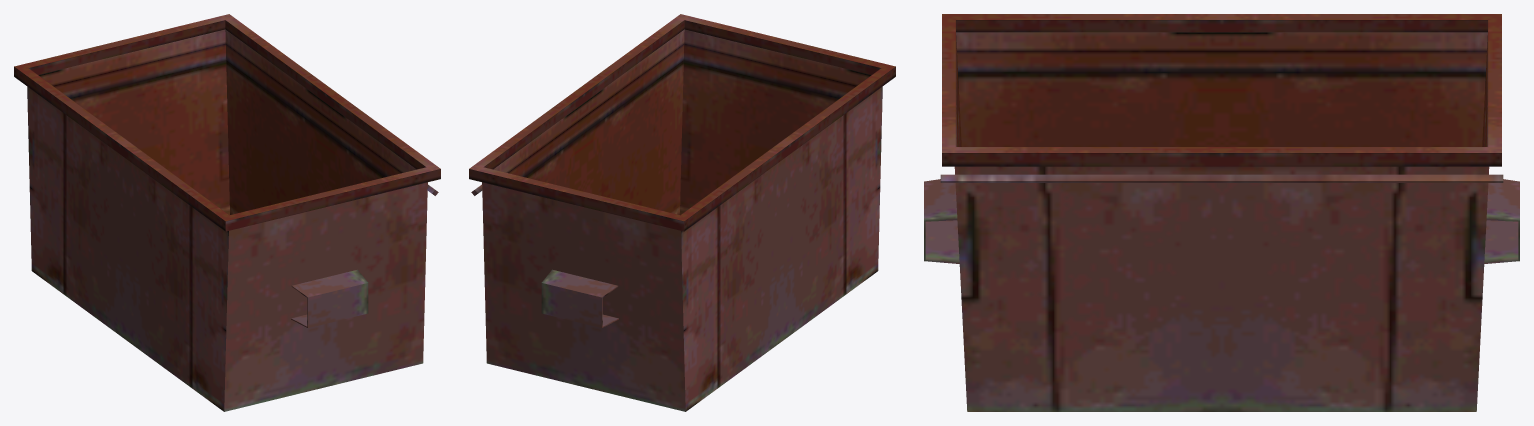
File: Urban_DumpsterEmptyNoLidRed_Model.fbx
3 renders of one model, left to right at view 1: azimuth 30°, elevation 25°; view 2: azimuth 150°, elevation 25°; view 3: azimuth 270°, elevation 25°, orthographic. The views are drawn at different scales.
Visible parts, largest first — view 1: Urban_DumpsterEmptyNoLidRed_Mesh; view 2: Urban_DumpsterEmptyNoLidRed_Mesh; view 3: Urban_DumpsterEmptyNoLidRed_Mesh.
Boxes of the visible parts, x1,y1,x2,y2 form: Urban_DumpsterEmptyNoLidRed_Mesh: (14, 14, 440, 411); Urban_DumpsterEmptyNoLidRed_Mesh: (469, 14, 895, 411); Urban_DumpsterEmptyNoLidRed_Mesh: (924, 14, 1519, 411).
Bounding box in the file's own units: 2.03 × 1.8 × 3.67.
